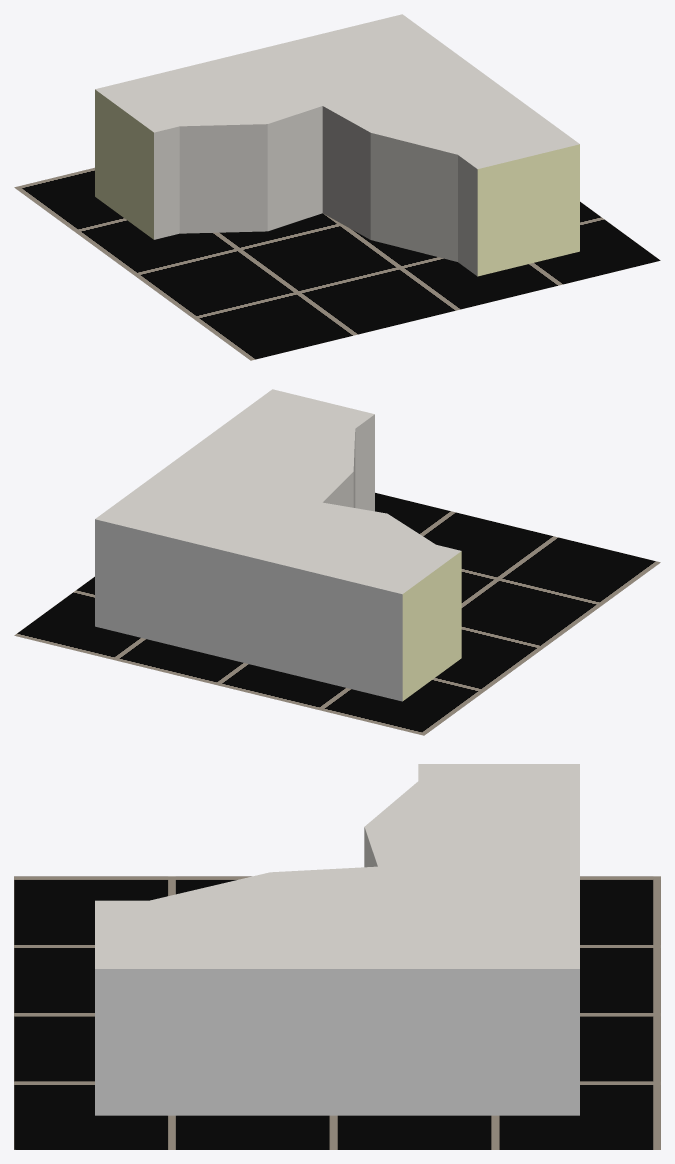
File: Cracked_Curve_Inner_3x3_1_Mid.glb
The picture shows the model from 3 angles, top to bottom: view 1: azimuth 30°, elevation 25°; view 2: azimuth 150°, elevation 25°; view 3: azimuth 270°, elevation 25°; orthographic projection. The views are drawn at different scales.
Parts seen in each view (by area): view 1: Cracked_Curve_Inner_3x3_1_Mid, Floor; view 2: Cracked_Curve_Inner_3x3_1_Mid, Floor; view 3: Cracked_Curve_Inner_3x3_1_Mid, Floor.
Boxes of the visible parts, <box> form: Cracked_Curve_Inner_3x3_1_Mid: <box>95,14,579,276</box>; Floor: <box>14,167,660,360</box>; Cracked_Curve_Inner_3x3_1_Mid: <box>95,389,461,701</box>; Floor: <box>14,492,660,735</box>; Cracked_Curve_Inner_3x3_1_Mid: <box>95,764,579,1115</box>; Floor: <box>14,876,660,1149</box>.
Size of the model in its own units: 400 by 100 by 400.
4 materials, 1 textured.
